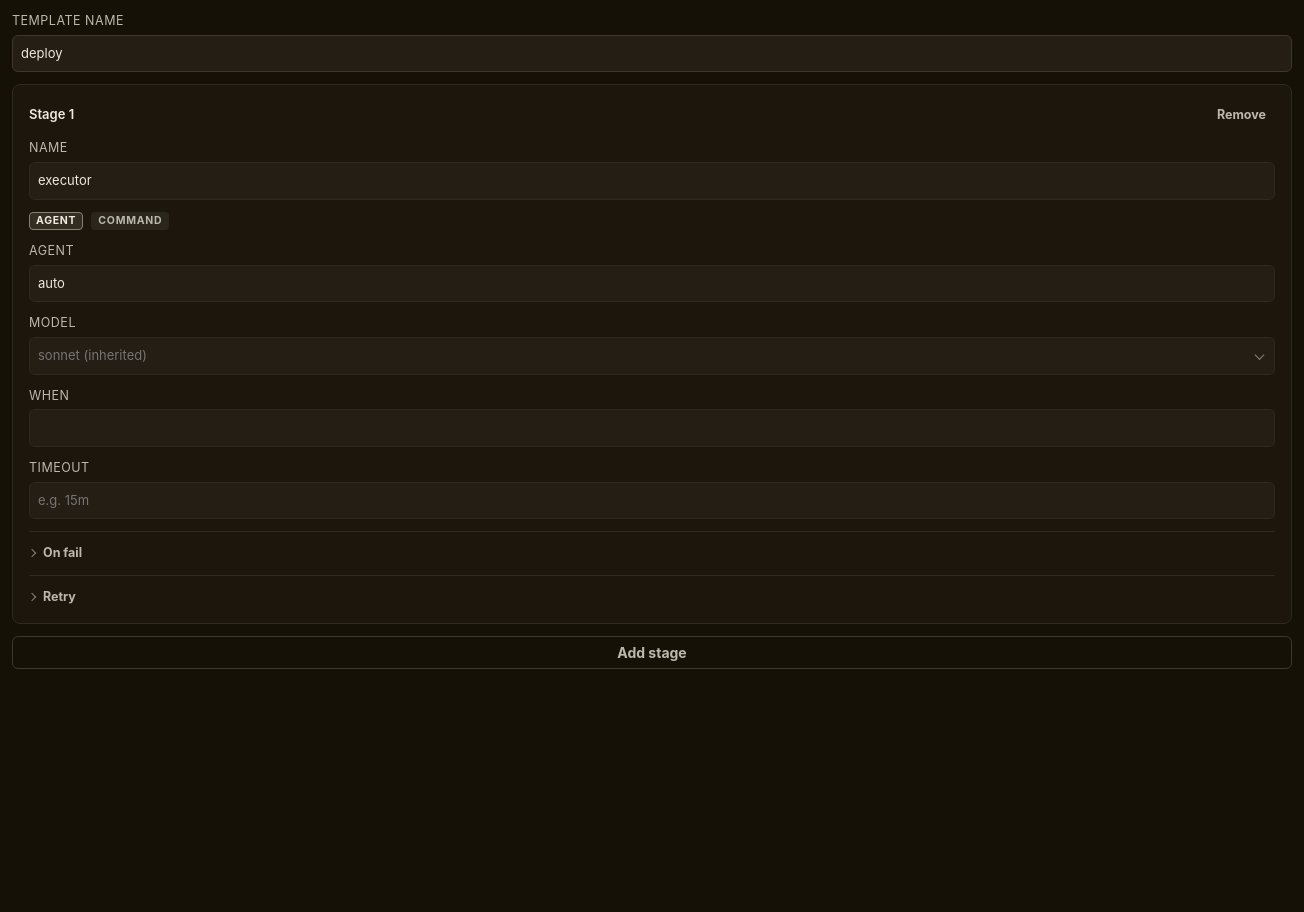
Test: VisualStageList › passes known model ids and the resolved agent's inherited model down to each StageCard
Step 1. Focus the dropdown labelled "Model" → (652, 356), box [29, 337, 1275, 374]
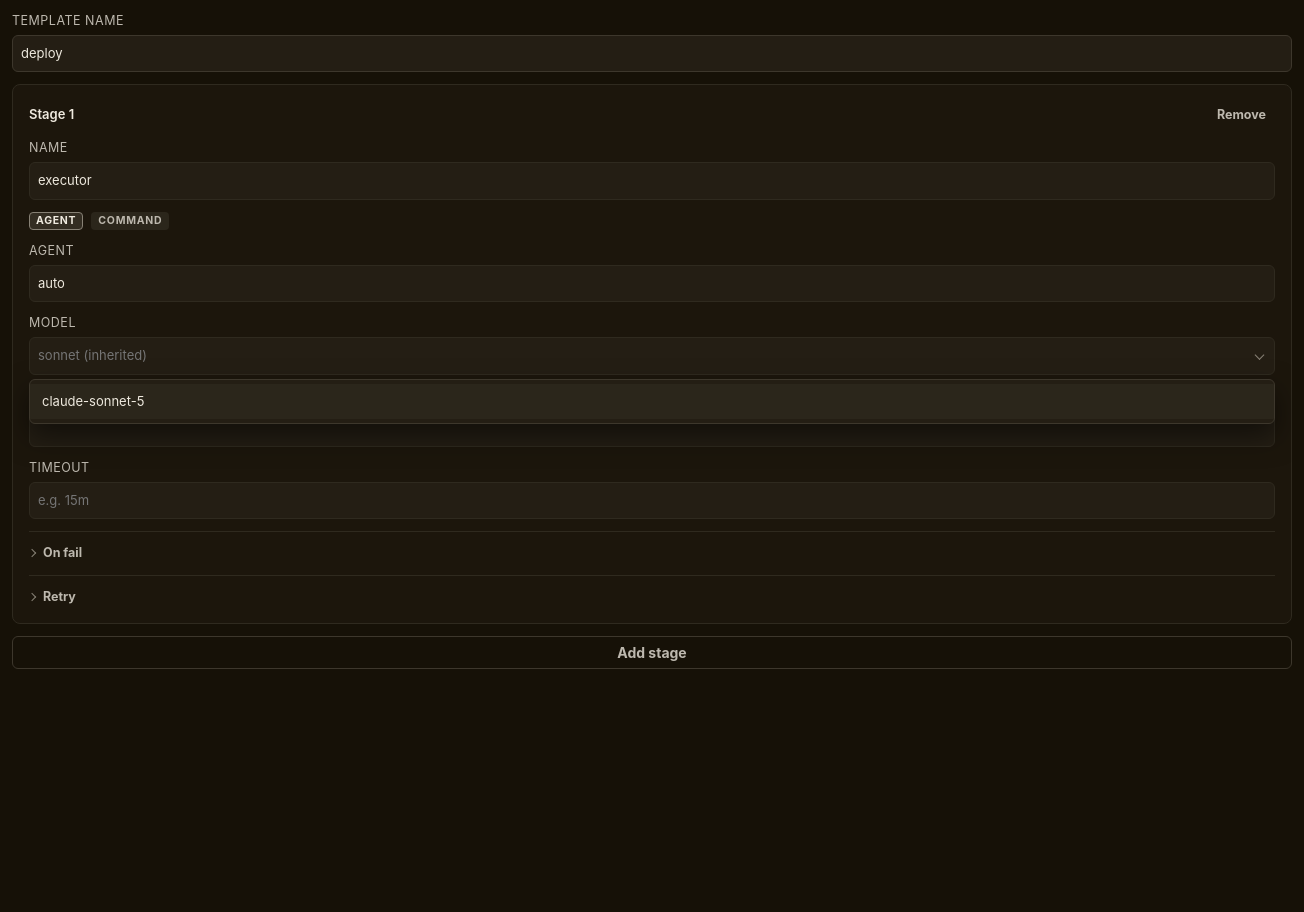
Now the options read "claude-sonnet-5", in this order, box [30, 384, 1274, 419]
